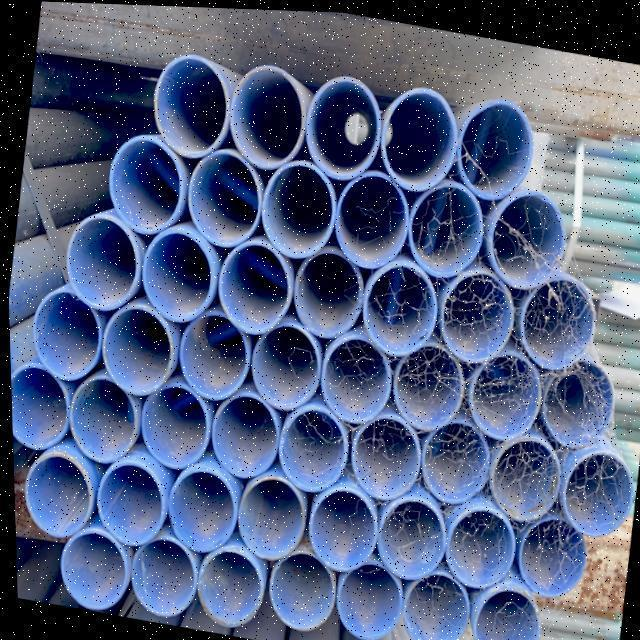pipe: (372, 76, 465, 195), (222, 56, 314, 175), (145, 45, 238, 162), (298, 68, 390, 184), (479, 180, 571, 292), (450, 90, 540, 204), (179, 142, 269, 254), (100, 128, 190, 240), (400, 172, 490, 283), (354, 250, 444, 360), (429, 256, 519, 366), (132, 218, 222, 326), (254, 152, 342, 262), (328, 162, 414, 272), (210, 232, 298, 338), (512, 266, 600, 372), (91, 297, 179, 400), (534, 347, 620, 452), (58, 210, 144, 314), (459, 342, 545, 444), (170, 305, 256, 406), (23, 283, 107, 384), (554, 440, 638, 541), (286, 240, 369, 342), (342, 405, 427, 504), (59, 368, 143, 468), (313, 326, 397, 426), (384, 333, 468, 432), (244, 313, 326, 414), (14, 446, 98, 544), (158, 459, 242, 556), (132, 376, 215, 474), (270, 397, 353, 494), (482, 428, 566, 523), (87, 456, 170, 552), (437, 494, 518, 592), (188, 537, 270, 632), (368, 488, 450, 583), (299, 478, 380, 574), (228, 469, 309, 564), (203, 387, 284, 482), (413, 411, 494, 506), (260, 542, 340, 636), (122, 529, 201, 624), (510, 506, 590, 599), (51, 522, 130, 616), (326, 552, 404, 640), (8, 360, 74, 453), (394, 563, 472, 640), (461, 576, 544, 640)
